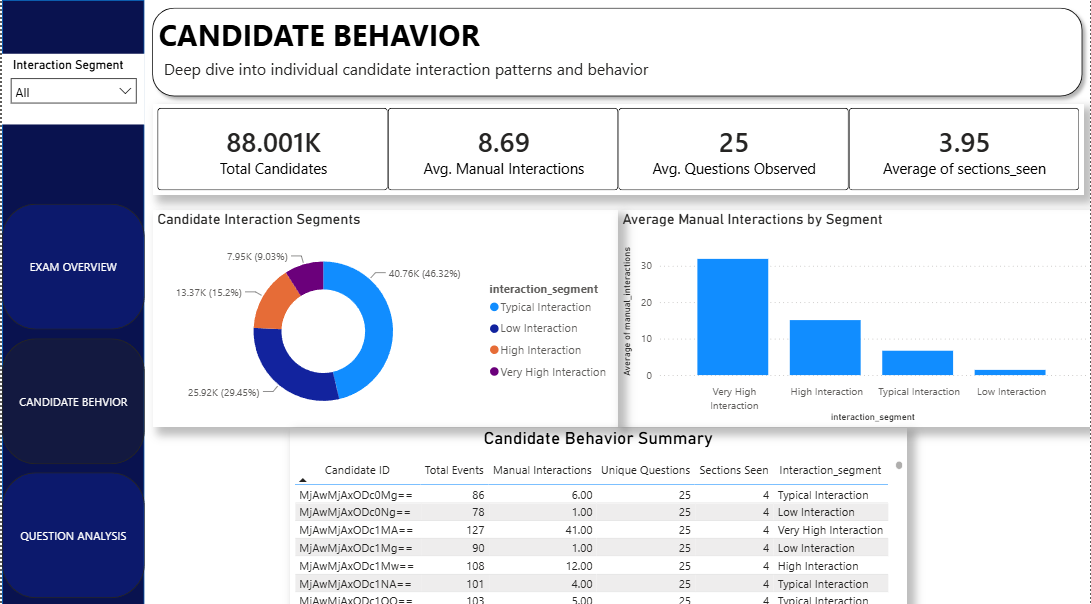

The dashboard page shown, as its layout file describes it:
{"tool":"powerbi","page":{"name":"CANDIDATE BEHVIOR","canvas":[1280,720],"ordinal":1},"visuals":[{"type":"shape","box":[0,0,167.7,720.6],"z":0},{"type":"shape","box":[167.5,0,1112.5,720],"z":1000},{"type":"shape","box":[167.5,0,1112.5,122.5],"z":2000},{"type":"textbox","box":[185,62.5,980,40],"z":3000},{"type":"cardVisual","fields":{"Data":["CountNonNull(public candidate_behavior.candidate_id)","Avg(public candidate_behavior.manual_interactions)","Count(public candidate_behavior.unique_questions)","Avg(public candidate_behavior.sections_seen)"]},"box":[177.5,122.5,1095,107.5],"z":4000},{"type":"donutChart","title":"Candidate Interaction Segments","fields":{"Category":["public candidate_behavior.interaction_segment"],"Y":["CountNonNull(public candidate_behavior.candidate_id)"]},"box":[177.5,247.5,547.5,255],"z":5000},{"type":"clusteredColumnChart","title":"Average Manual Interactions by Segment","fields":{"Category":["public candidate_behavior.interaction_segment"],"Y":["Avg(public candidate_behavior.manual_interactions)"]},"box":[725,247.5,555,255],"z":6000},{"type":"tableEx","title":"Candidate Behavior Summary","fields":{"Values":["public candidate_behavior.candidate_id","Sum(public candidate_behavior.total_events)","Sum(public candidate_behavior.manual_interactions)","Sum(public candidate_behavior.unique_questions)","Sum(public candidate_behavior.sections_seen)","public candidate_behavior.interaction_segment"]},"box":[338.3,503.3,726.7,218.3],"z":7000},{"type":"pageNavigator","box":[0,240,168.3,465],"z":8000},{"type":"slicer","fields":{"Values":["public candidate_behavior.interaction_segment"]},"box":[0,63.3,168.3,83.3],"z":8001}]}

Visuals, with their boxes on the page's 1280x720 design canvas (x1, y1, x2, y2). These are canvas units, not pixel positions in the 1091x604 screenshot, which may show the page scaled, cropped or inside an application window:
shape: detection(0, 0, 168, 721)
shape: detection(168, 0, 1280, 720)
shape: detection(168, 0, 1280, 122)
textbox: detection(185, 62, 1165, 102)
cardVisual - CountNonNull(public candidate_behavior.candidate_id) x Avg(public candidate_behavior.manual_interactions): detection(178, 122, 1272, 230)
"Candidate Interaction Segments" donutChart: detection(178, 248, 725, 502)
"Average Manual Interactions by Segment" clusteredColumnChart: detection(725, 248, 1280, 502)
"Candidate Behavior Summary" tableEx: detection(338, 503, 1065, 722)
pageNavigator: detection(0, 240, 168, 705)
slicer - public candidate_behavior.interaction_segment: detection(0, 63, 168, 147)
